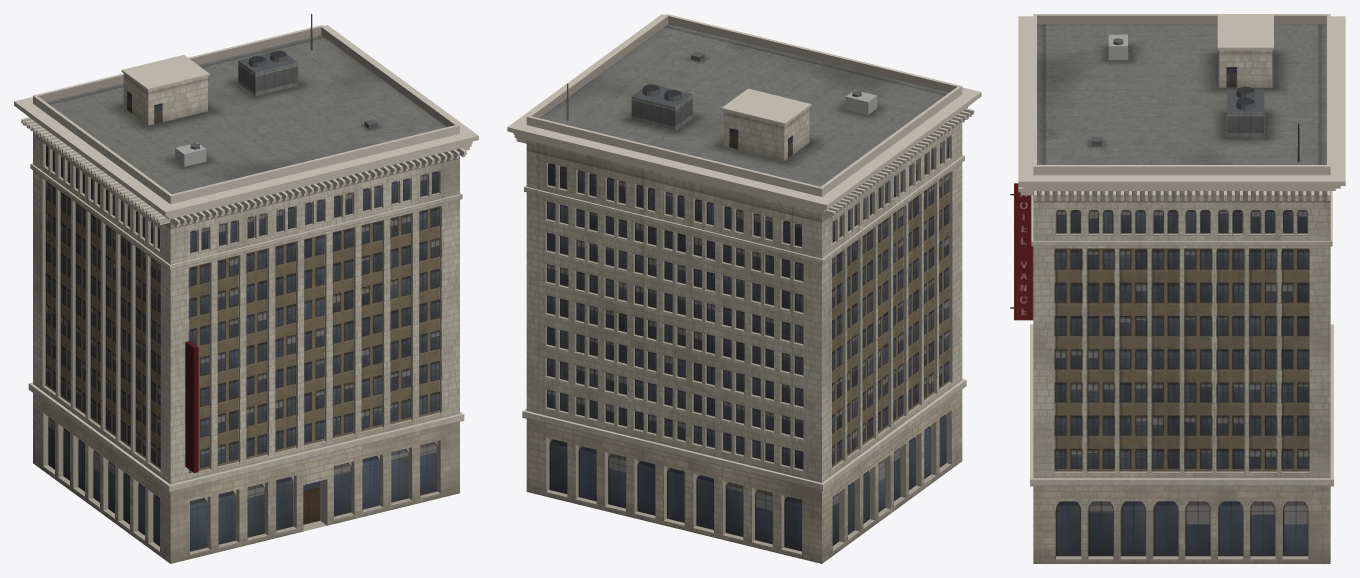
File: seattle_terracotta_a.glb
3 views of the same model, side by side, from view 1: azimuth 30°, elevation 25°; view 2: azimuth 150°, elevation 25°; view 3: azimuth 270°, elevation 25° (orthographic). The views are drawn at different scales.
Visible parts, largest first — view 1: seattle_terracotta_a; view 2: seattle_terracotta_a; view 3: seattle_terracotta_a.
Boxes of the visible parts, x1,y1,x2,y2 form: seattle_terracotta_a: (14, 14, 478, 563); seattle_terracotta_a: (507, 14, 981, 563); seattle_terracotta_a: (1010, 14, 1345, 563).
Size of the model in its own units: 36.8 by 44.57 by 31.56.
1 material, 1 textured.
